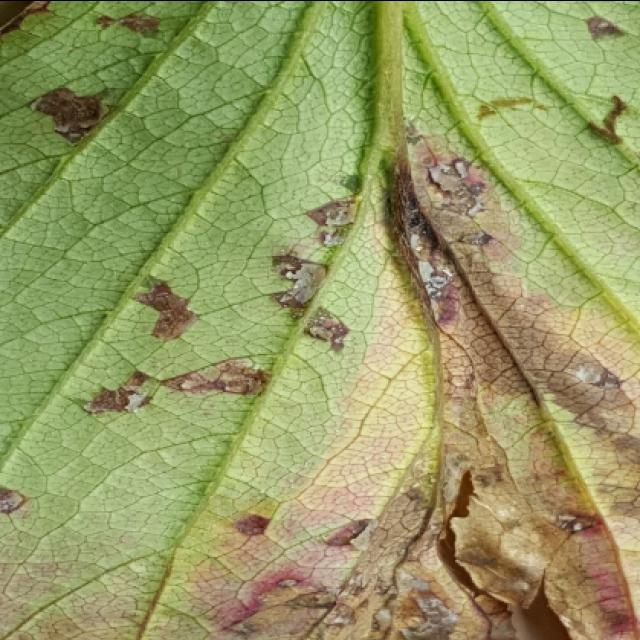Angular Leafspot: (0, 2, 638, 640)
